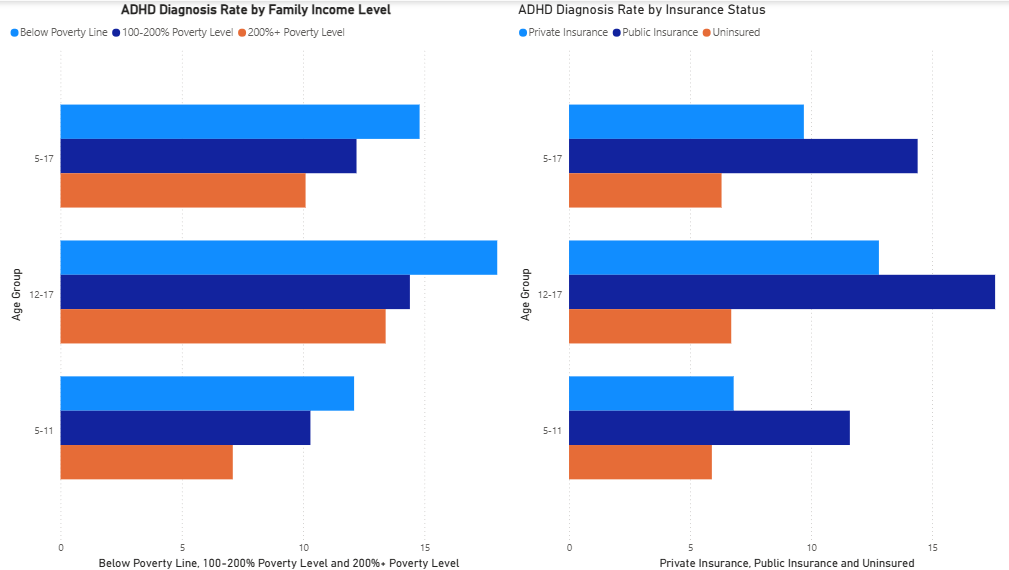

Layout of this report page (visuals, bound fields, positions):
{"tool":"powerbi","page":{"name":"Socioeconomic","canvas":[1280,720],"ordinal":4},"visuals":[{"type":"clusteredBarChart","title":"ADHD Diagnosis Rate by Family Income Level","fields":{"Category":["income_insurance.age_group"],"Y":["Sum(income_insurance.income_below_100fpl_pct)","Sum(income_insurance.income_100_200fpl_pct)","Sum(income_insurance.income_200plus_fpl_pct)"]},"box":[9.4,0,631.2,720],"z":0},{"type":"clusteredBarChart","title":"ADHD Diagnosis Rate by Insurance Status","fields":{"Category":["income_insurance.age_group"],"Y":["Sum(income_insurance.insured_private_pct)","Sum(income_insurance.insured_public_pct)","Sum(income_insurance.uninsured_pct)"]},"box":[650,0,630,720],"z":1000}]}

Visuals, with their boxes in screenshot pixels (x1, y1, x2, y2), scaled from the page's 1280x720 canvas onto the 1009x570 screenshot:
"ADHD Diagnosis Rate by Family Income Level" clusteredBarChart: (left=7, top=0, right=505, bottom=569)
"ADHD Diagnosis Rate by Insurance Status" clusteredBarChart: (left=512, top=0, right=1008, bottom=569)
